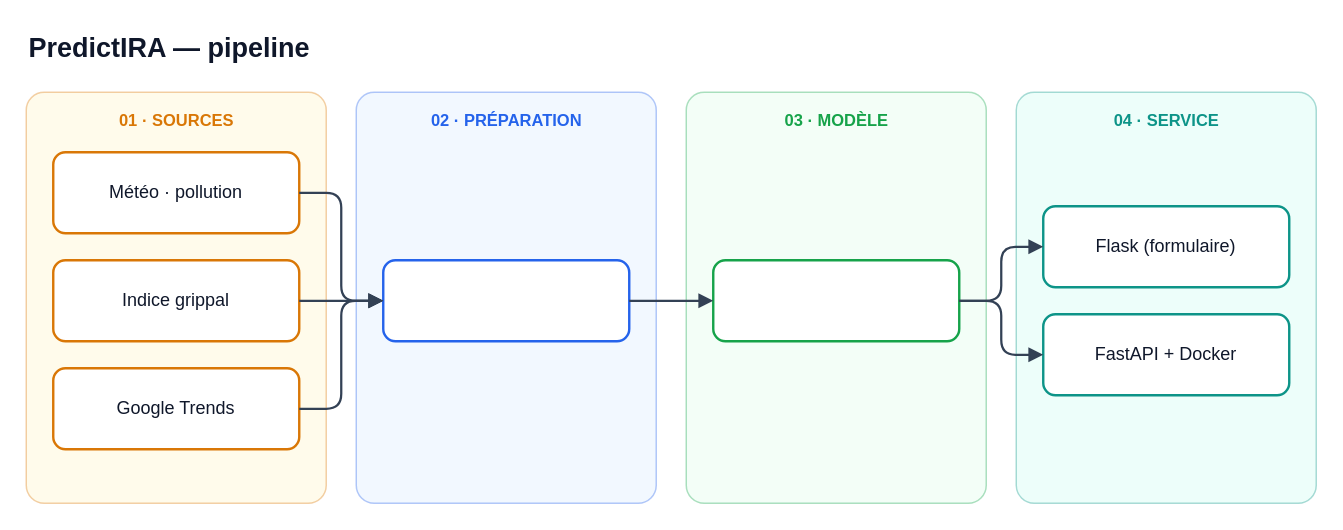
The diagram is 1343 pixels wide and 530 high, and some of its shapes have lost their labels. The box of each missing label's shape, as (x1, y1, x2, y2) in pixels:
Features + scaler: (381, 258, 630, 342)
LightGBM: (711, 258, 960, 342)
